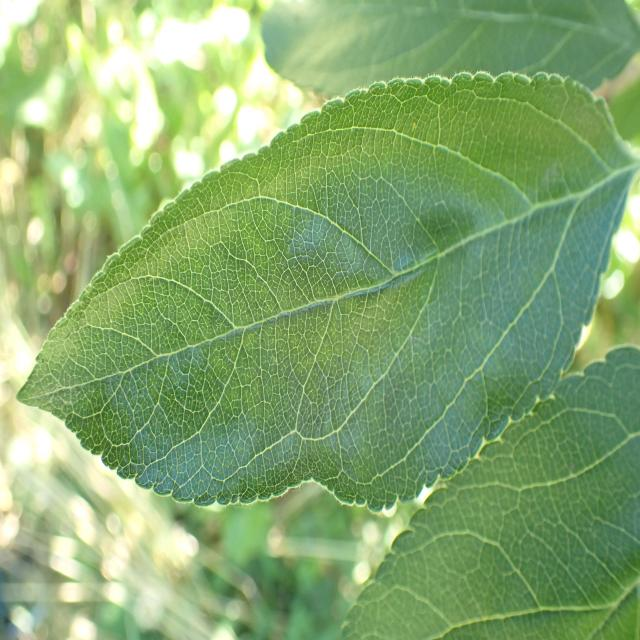healthy: (16, 69, 640, 513), (339, 343, 640, 640), (257, 0, 640, 100)
